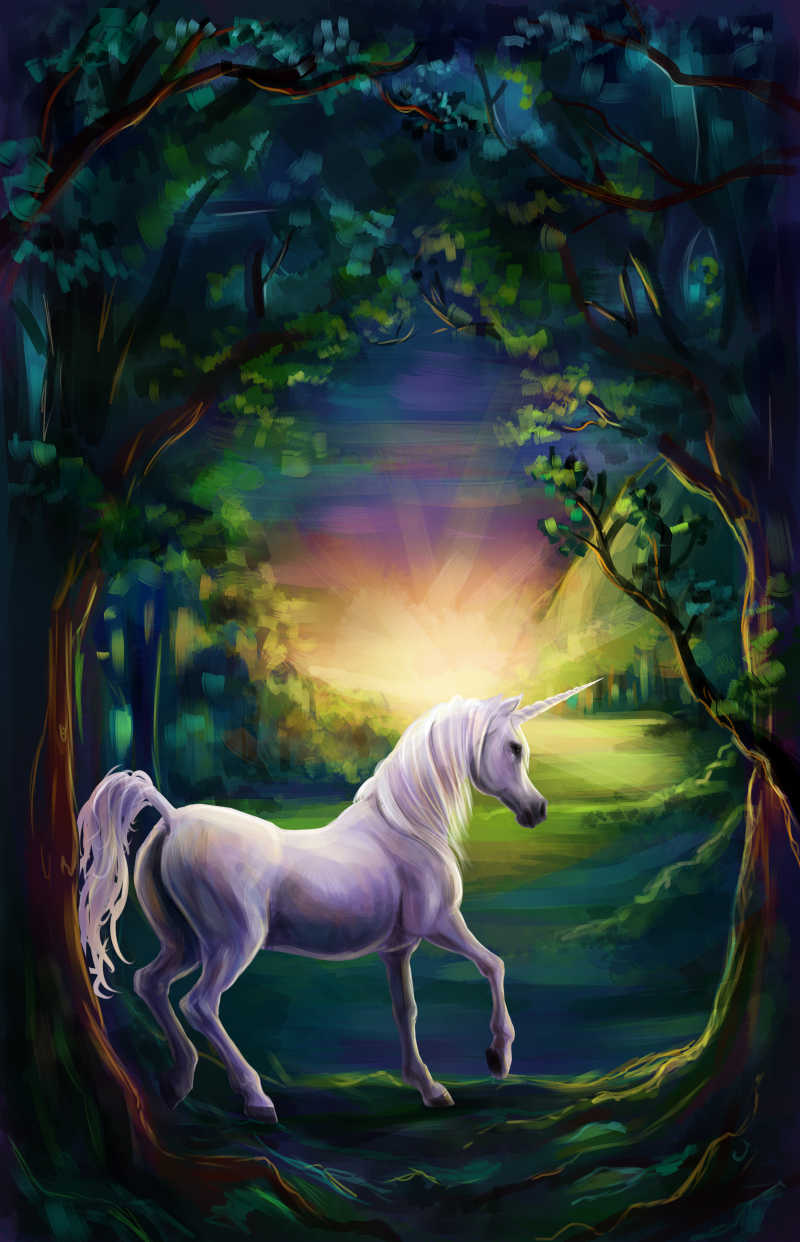background: (73, 668, 609, 1121)
